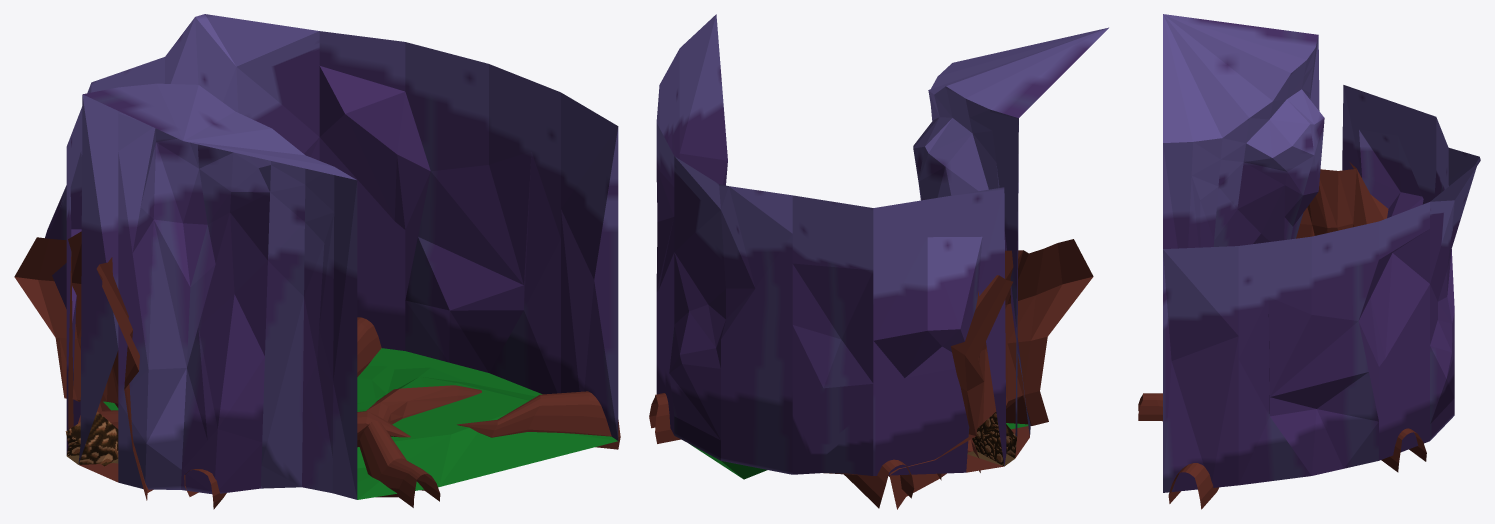
Rendered from Modelo Raices.fbx.
3 renders of one model, left to right at view 1: azimuth 30°, elevation 25°; view 2: azimuth 150°, elevation 25°; view 3: azimuth 270°, elevation 25°, orthographic. The views are drawn at different scales.
Parts seen in each view (by area): view 1: Raices; view 2: Raices; view 3: Raices.
Boxes of the visible parts, x1,y1,x2,y2 form: Raices: [14, 14, 620, 509]; Raices: [649, 14, 1108, 509]; Raices: [1138, 14, 1480, 509].
Bounding box in the file's own units: 22044 × 17607 × 18922.
5 materials, 2 textured.
